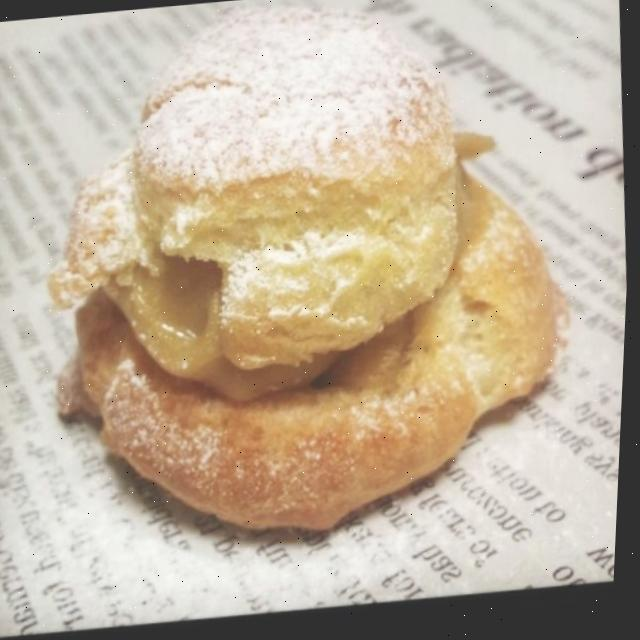炸货点心: (11, 0, 597, 576)
蛋糕甜品: (11, 0, 597, 576)
